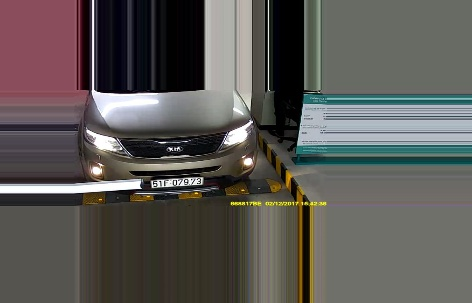plate: (150, 175, 206, 187)
